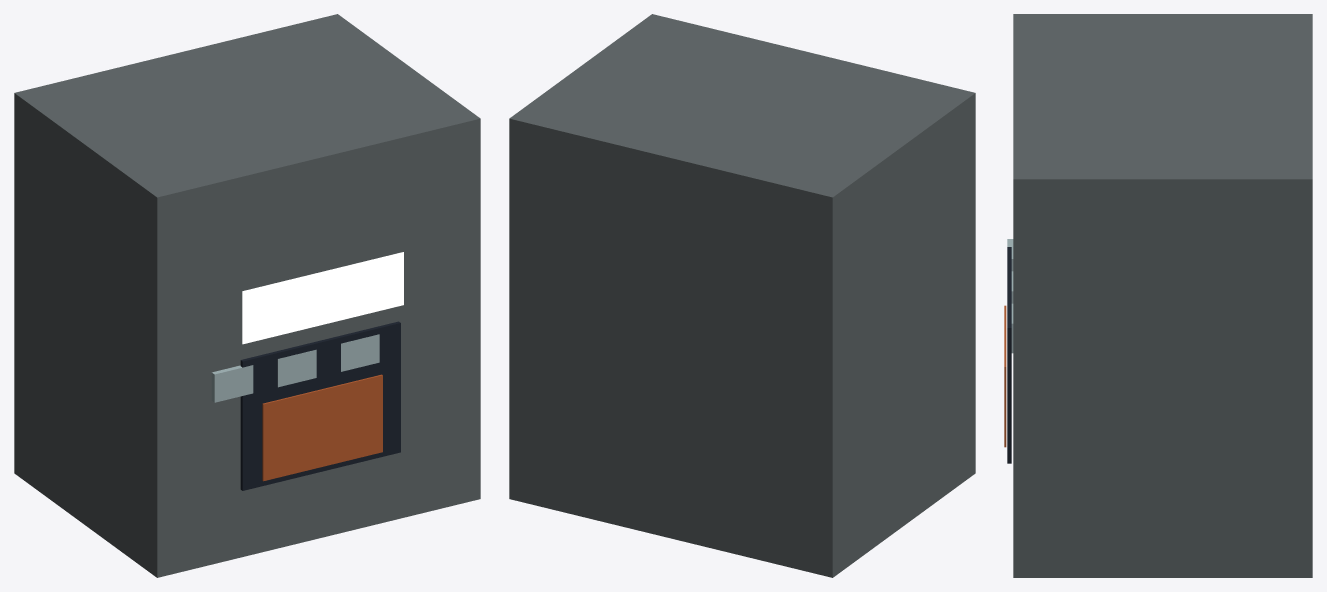
Rendered from glass_furnace.glb.
The picture shows the model from 3 angles, left to right: view 1: azimuth 30°, elevation 25°; view 2: azimuth 150°, elevation 25°; view 3: azimuth 270°, elevation 25°; orthographic projection. The views are drawn at different scales.
Bounding box in the file's own units: 1.84 × 2.07 × 1.45.
2 materials, 1 textured.
